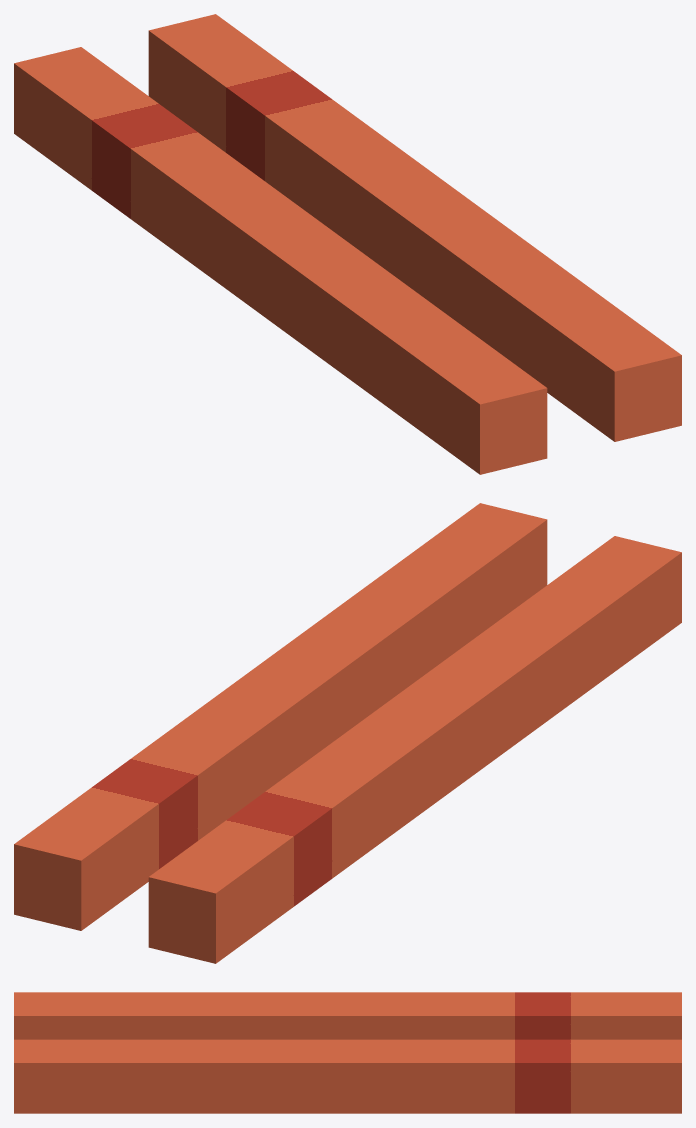
The model's file is Palillos.fbx.
3 renders of one model, top to bottom at view 1: azimuth 30°, elevation 25°; view 2: azimuth 150°, elevation 25°; view 3: azimuth 270°, elevation 25°, orthographic. The views are drawn at different scales.
Visible parts, largest first — view 1: Palillos.001; view 2: Palillos.001; view 3: Palillos.001.
Part boxes in pixels (x1,y1,x2,y2): Palillos.001: [14, 14, 681, 474]; Palillos.001: [14, 503, 681, 963]; Palillos.001: [14, 992, 681, 1113].
Bounding box in the file's own units: 0.3022 × 0.1007 × 1.21.
